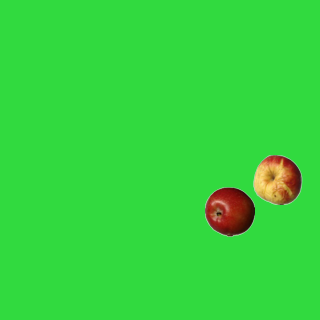Apple Braeburn: (204, 186, 254, 236)
Apple Red Yellow 1: (252, 154, 302, 204)
